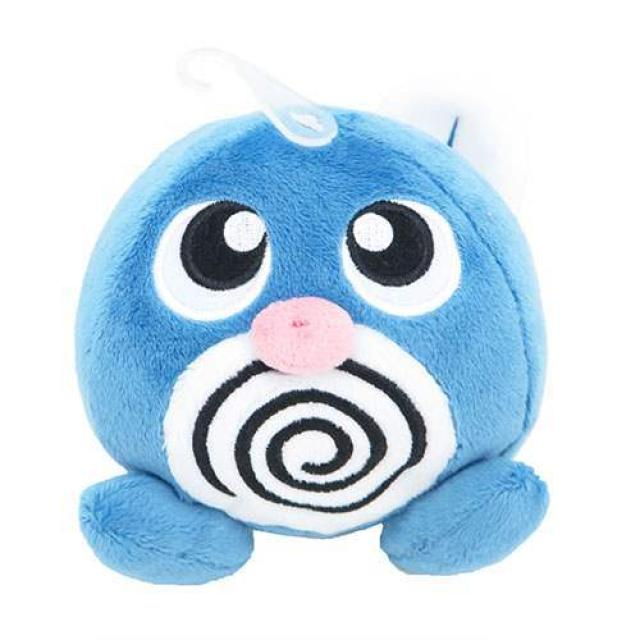Poliwag: (63, 74, 563, 580)
